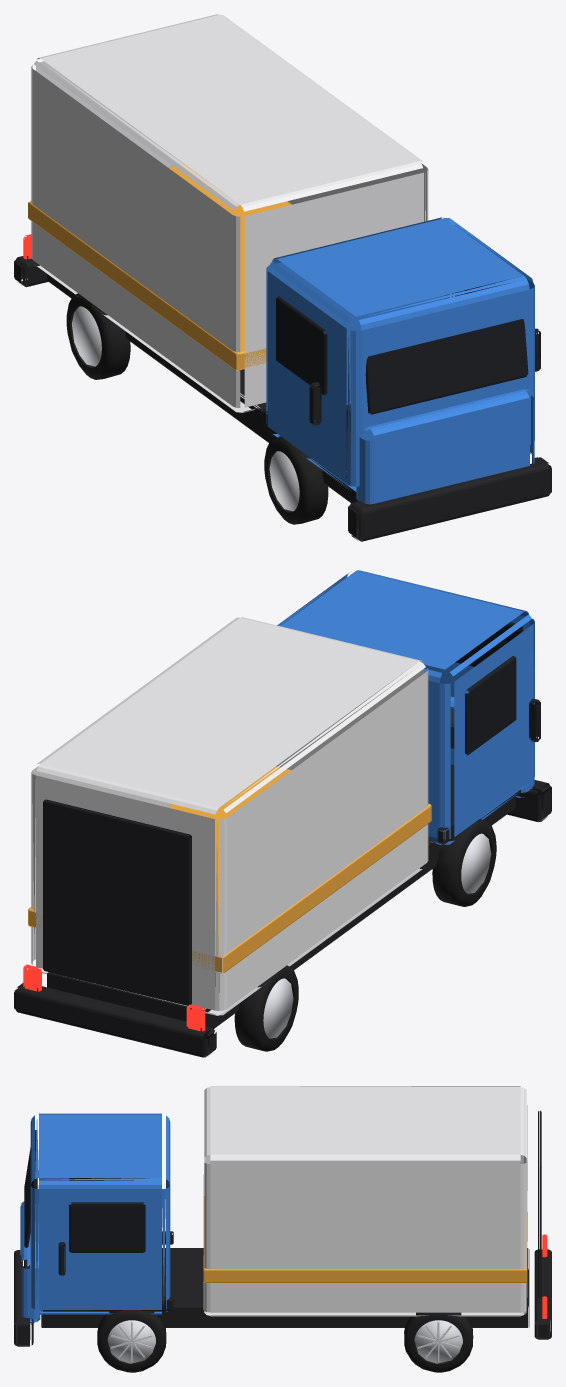
The model's file is hauler.glb.
The picture shows the model from 3 angles, top to bottom: view 1: azimuth 30°, elevation 25°; view 2: azimuth 150°, elevation 25°; view 3: azimuth 270°, elevation 25°; orthographic projection. The views are drawn at different scales.
Visible parts, largest first — view 1: cargo, cab, cabnose, windshield, bumper, cargostripe, sidewin.001, tire.001, chassis, tire.003, rim.001, rim.003 (+1 smaller); view 2: cargo, cab, cargodoor, bumperR, cargostripe, chassis, sidewin.001, tire.001, tire.003, rim.003, rim.001, bumper (+1 smaller); view 3: cargo, cab, chassis, cargostripe, sidewin, tire, tire.002, rim.002, rim, bumperR, cabnose, bumper (+2 smaller).
Boxes of the visible parts, <box> form: cargo: <box>31,14,428,412</box>; cab: <box>266,217,534,491</box>; cabnose: <box>356,389,534,504</box>; windshield: <box>365,319,528,414</box>; bumper: <box>348,457,551,541</box>; cargostripe: <box>28,163,291,370</box>; sidewin.001: <box>276,296,327,395</box>; tire.001: <box>264,436,328,524</box>; chassis: <box>47,274,357,502</box>; tire.003: <box>66,293,130,379</box>; rim.001: <box>269,451,299,511</box>; rim.003: <box>72,306,101,366</box>; cargo: <box>31,617,428,1015</box>; cab: <box>277,570,534,845</box>; cargodoor: <box>43,799,191,1005</box>; bumperR: <box>14,983,216,1057</box>; cargostripe: <box>28,766,431,973</box>; chassis: <box>47,764,515,1028</box>; sidewin.001: <box>465,656,516,755</box>; tire.001: <box>432,819,496,906</box>; tire.003: <box>234,965,298,1051</box>; rim.003: <box>263,978,293,1038</box>; rim.001: <box>461,833,491,893</box>; bumper: <box>507,780,551,822</box>; cargo: <box>203,1086,527,1316</box>; cab: <box>30,1113,170,1314</box>; chassis: <box>41,1248,529,1327</box>; cargostripe: <box>203,1196,527,1282</box>; sidewin: <box>69,1202,145,1252</box>; tire: <box>97,1310,166,1372</box>; tire.002: <box>404,1312,473,1372</box>; rim.002: <box>414,1320,462,1363</box>; rim: <box>107,1320,155,1363</box>; bumperR: <box>534,1249,551,1339</box>; cabnose: <box>20,1201,40,1323</box>; bumper: <box>14,1250,33,1346</box>.
Bounding box in the file's own units: 2.94 × 3.42 × 7.72.
